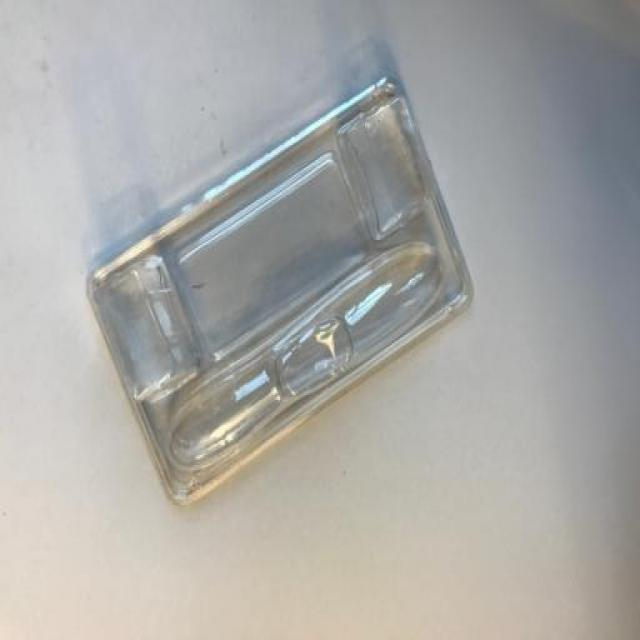Plastic: (88, 70, 473, 504)
